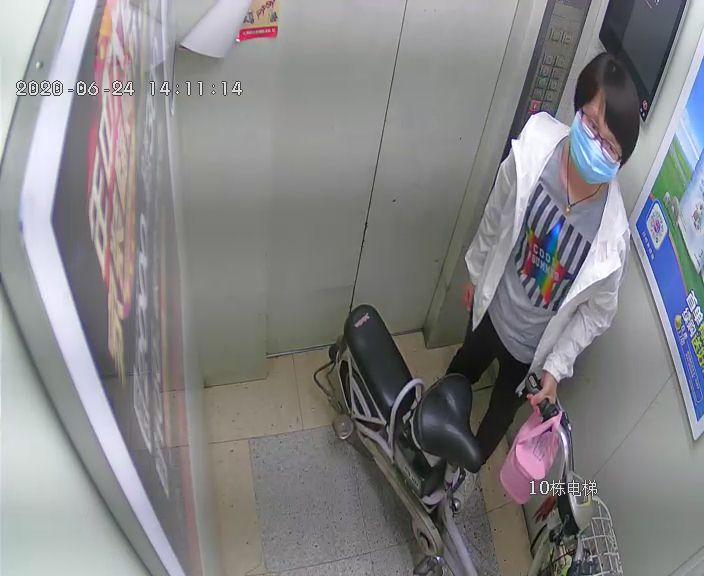Electric-bicycle: (325, 301, 619, 570)
